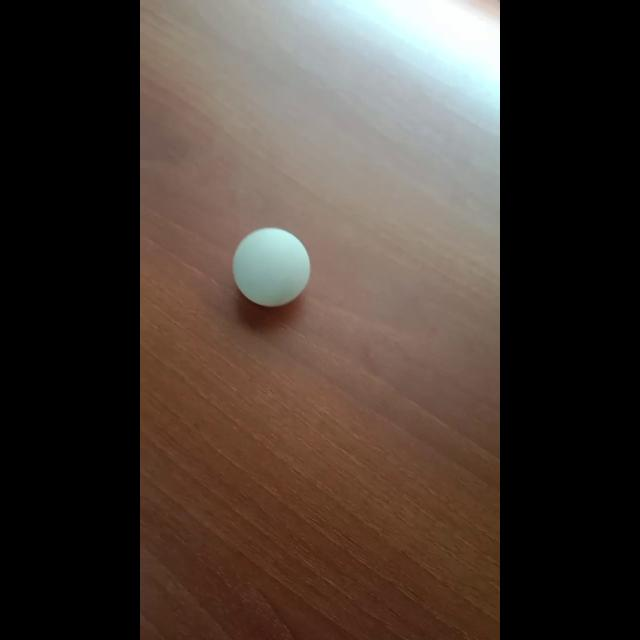white ball: (232, 226, 310, 308)
